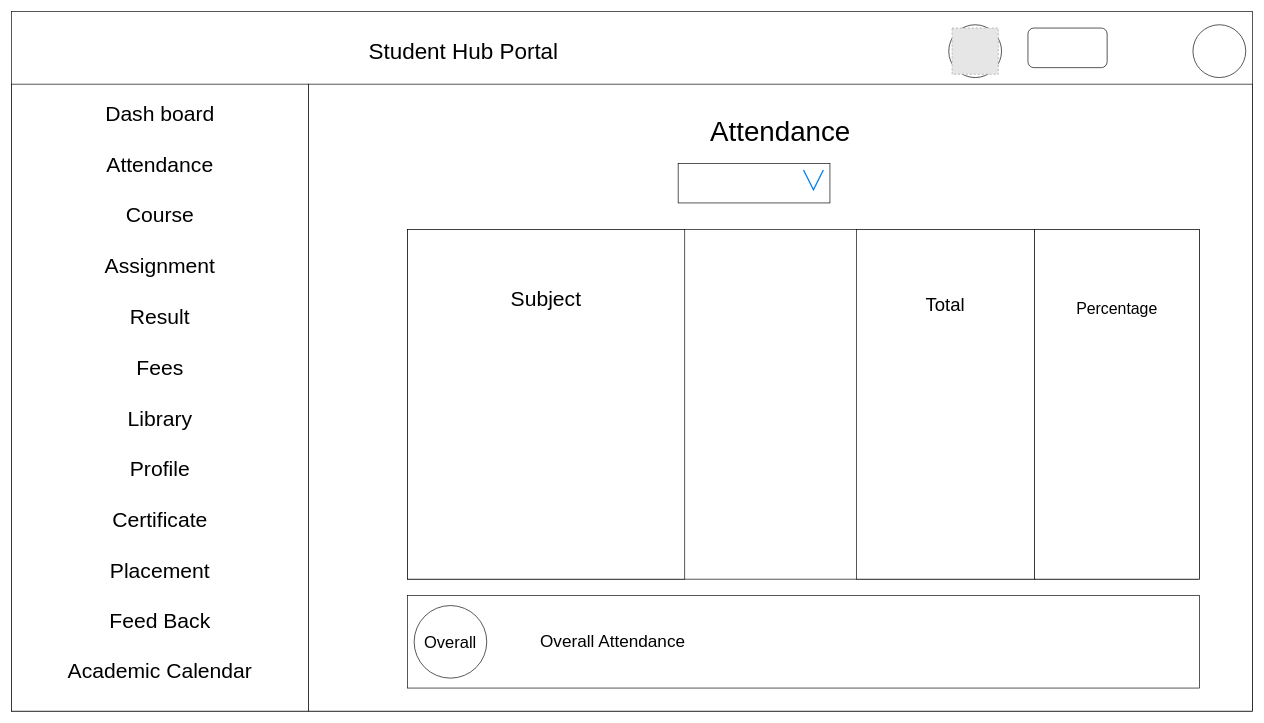
This 1264x723 diagram has some shape labels left out. Grey dashed boxes stand in for pictures. Each missing label, with the box of its shape:
Name: (1027, 27, 1107, 68)
Present: (407, 229, 1200, 579)
Semester: (677, 163, 830, 203)
Setting: (1192, 24, 1246, 78)
